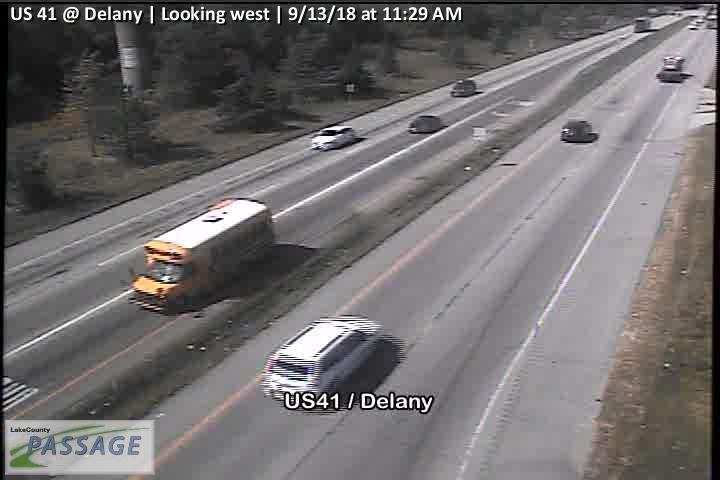Bus: (121, 196, 277, 316)
SUV: (261, 312, 392, 409), (560, 120, 595, 142), (452, 79, 479, 98)
Sedan: (310, 124, 355, 151), (406, 114, 444, 135)
Truck: (656, 55, 689, 87), (633, 16, 650, 30)
